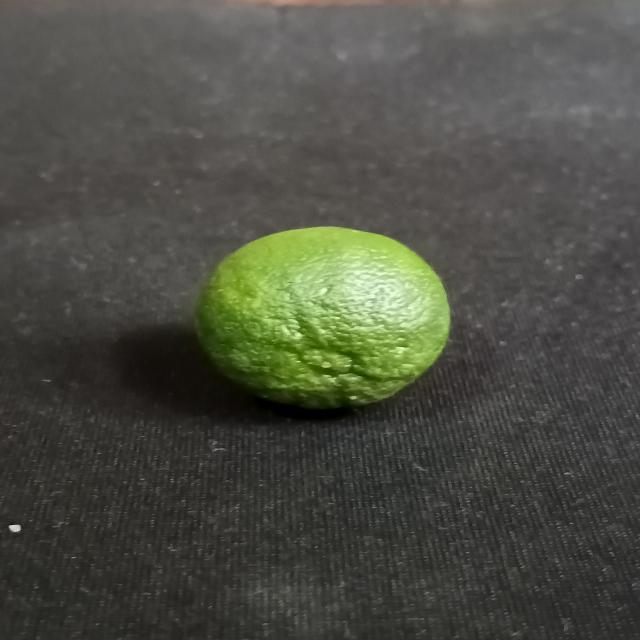heathy: (198, 226, 457, 407)
